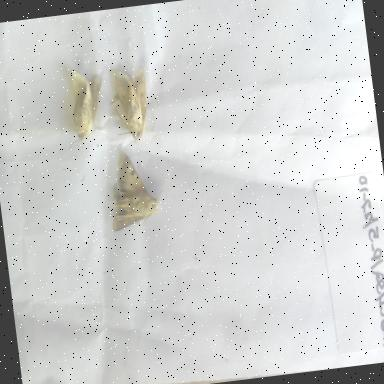abw: (98, 134, 170, 238), (48, 66, 111, 153), (100, 57, 158, 150)
